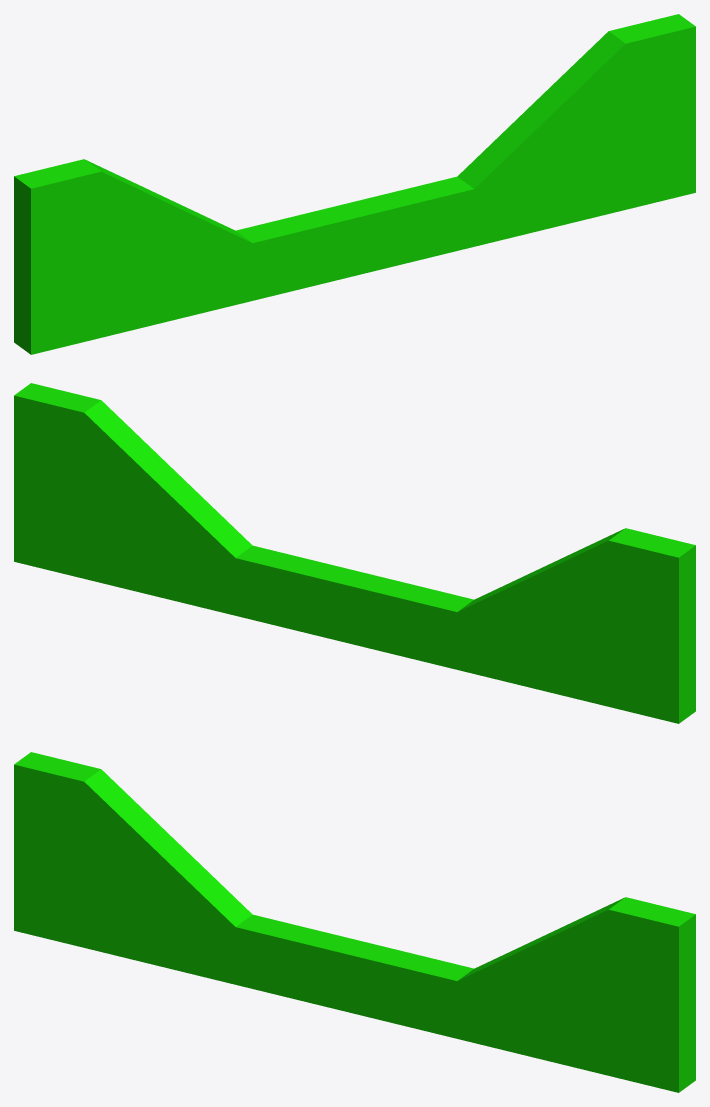
The model's file is sm_wall_medium_HalfMidDip_collider.fbx.
3 views of the same model, one above another, from view 1: azimuth 30°, elevation 25°; view 2: azimuth 150°, elevation 25°; view 3: azimuth 330°, elevation 25° (orthographic).
Visible parts, largest first — view 1: Cube.007; view 2: Cube.007; view 3: Cube.007.
Boxes of the visible parts, x1,y1,x2,y2 form: Cube.007: [14, 14, 695, 354]; Cube.007: [14, 383, 695, 723]; Cube.007: [14, 752, 695, 1092].
Bounding box in the file's own units: 11.38 × 2.72 × 0.5084.
